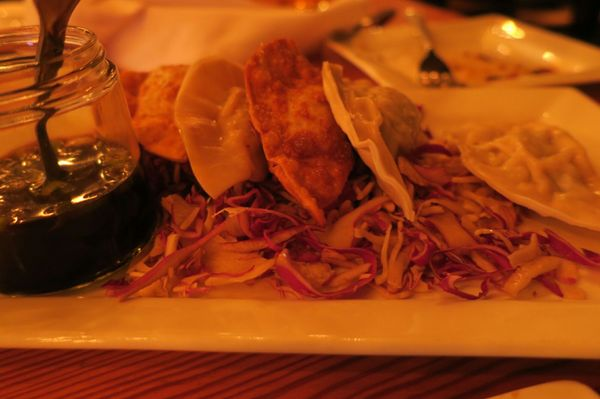pizza: (320, 61, 417, 224)
